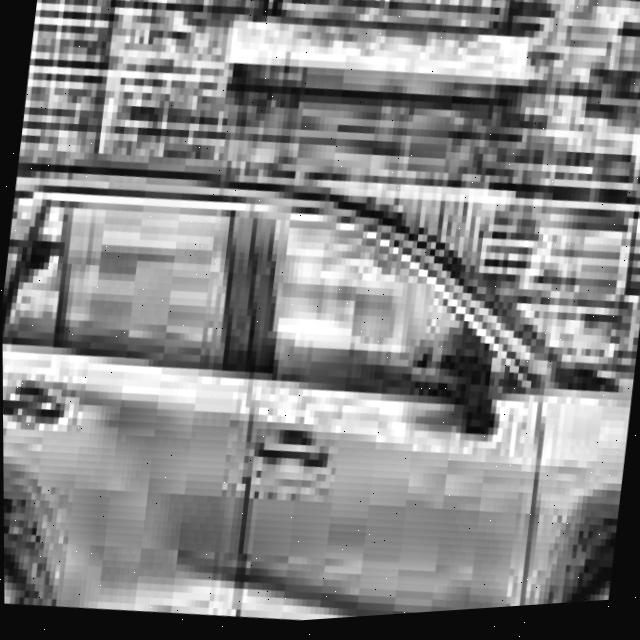light_vehicle: (1, 123, 640, 640)
